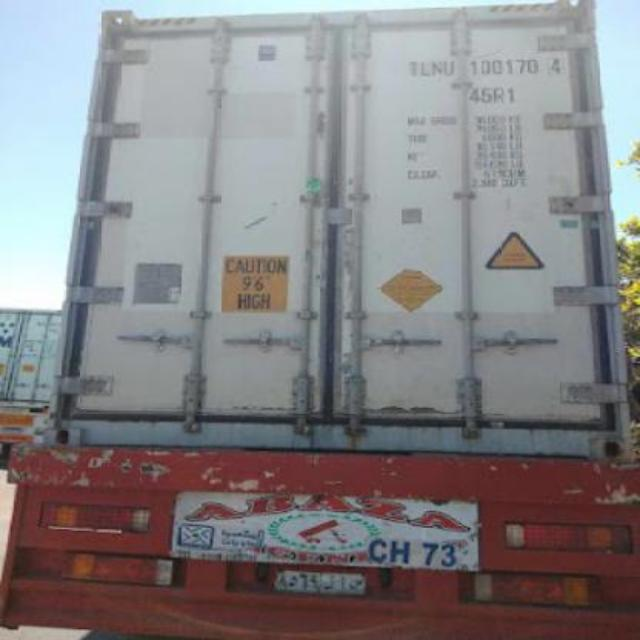0: (528, 56, 538, 76), (492, 59, 504, 75), (480, 58, 490, 74)
1: (506, 60, 518, 76), (472, 57, 480, 75)
4: (550, 57, 564, 75)
7: (516, 57, 528, 75)
L: (420, 60, 432, 78)
N: (430, 59, 442, 77)
T: (408, 59, 418, 75)
U: (442, 59, 456, 77)
